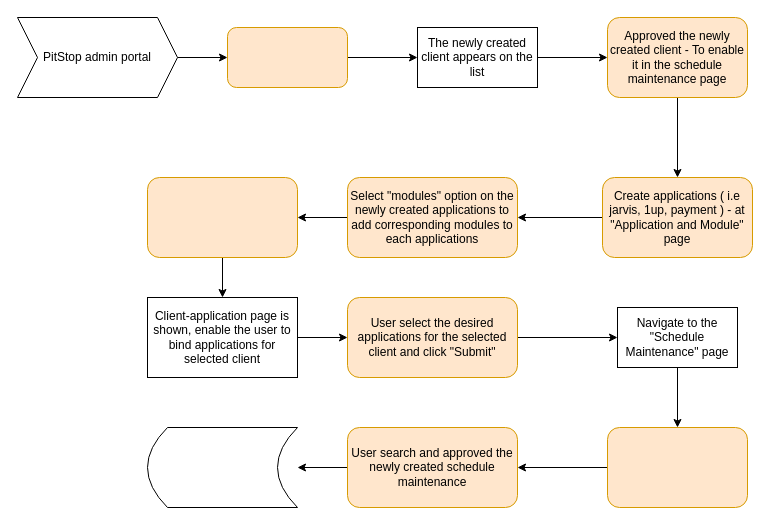
This 770x525 diagram has some shape labels left out. The centre of each missing label's shape, as x and y in pixels:
At "OnBoarding" page, click "Application" button of the corresponding client: the point at 222,217
create client ( i.e. Infinity ) - at "OnBoarding" page: the point at 287,57
The schedule will appears on the public API: the point at 222,467
User create schedule maintenances for desired client, application or module: the point at 677,467
